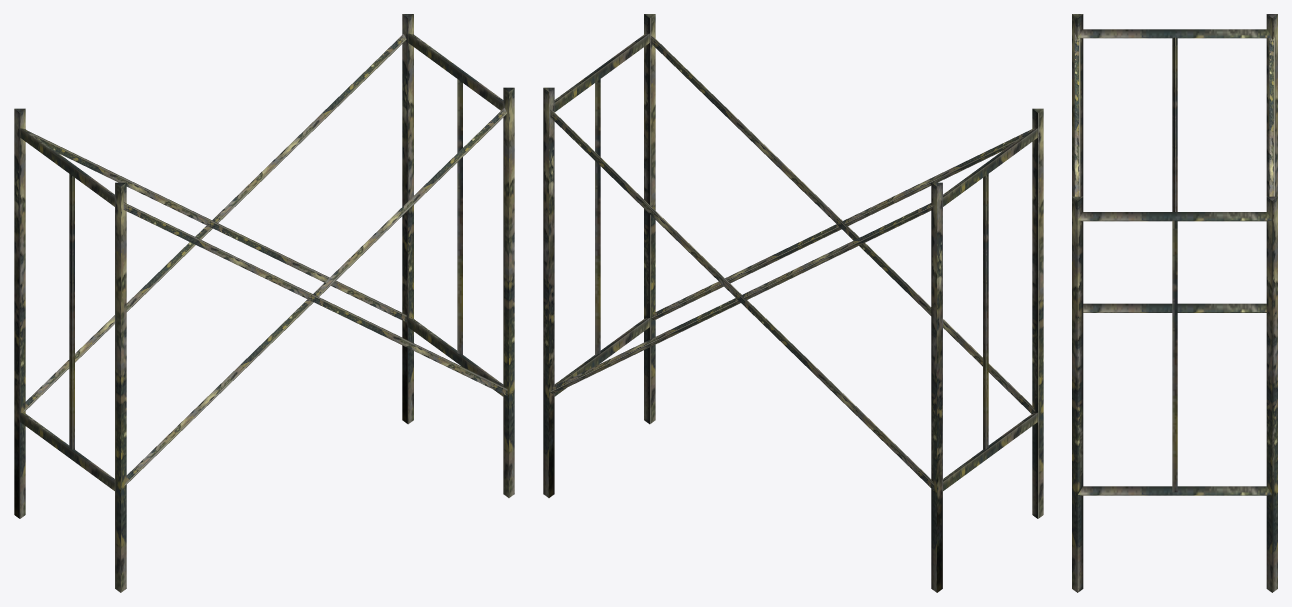
Rendered from fullscaff_mid.fbx.
3 renders of one model, left to right at view 1: azimuth 30°, elevation 25°; view 2: azimuth 150°, elevation 25°; view 3: azimuth 270°, elevation 25°, orthographic. The views are drawn at different scales.
Visible parts, largest first — view 1: mesh_0; view 2: mesh_0; view 3: mesh_0.
Boxes of the visible parts, bbox=[...] form: mesh_0: bbox=[14, 14, 514, 592]; mesh_0: bbox=[543, 14, 1043, 592]; mesh_0: bbox=[1072, 14, 1277, 592].
Size of the model in its own units: 409 by 400 by 190.
Materials: 1 (1 with a texture image).
